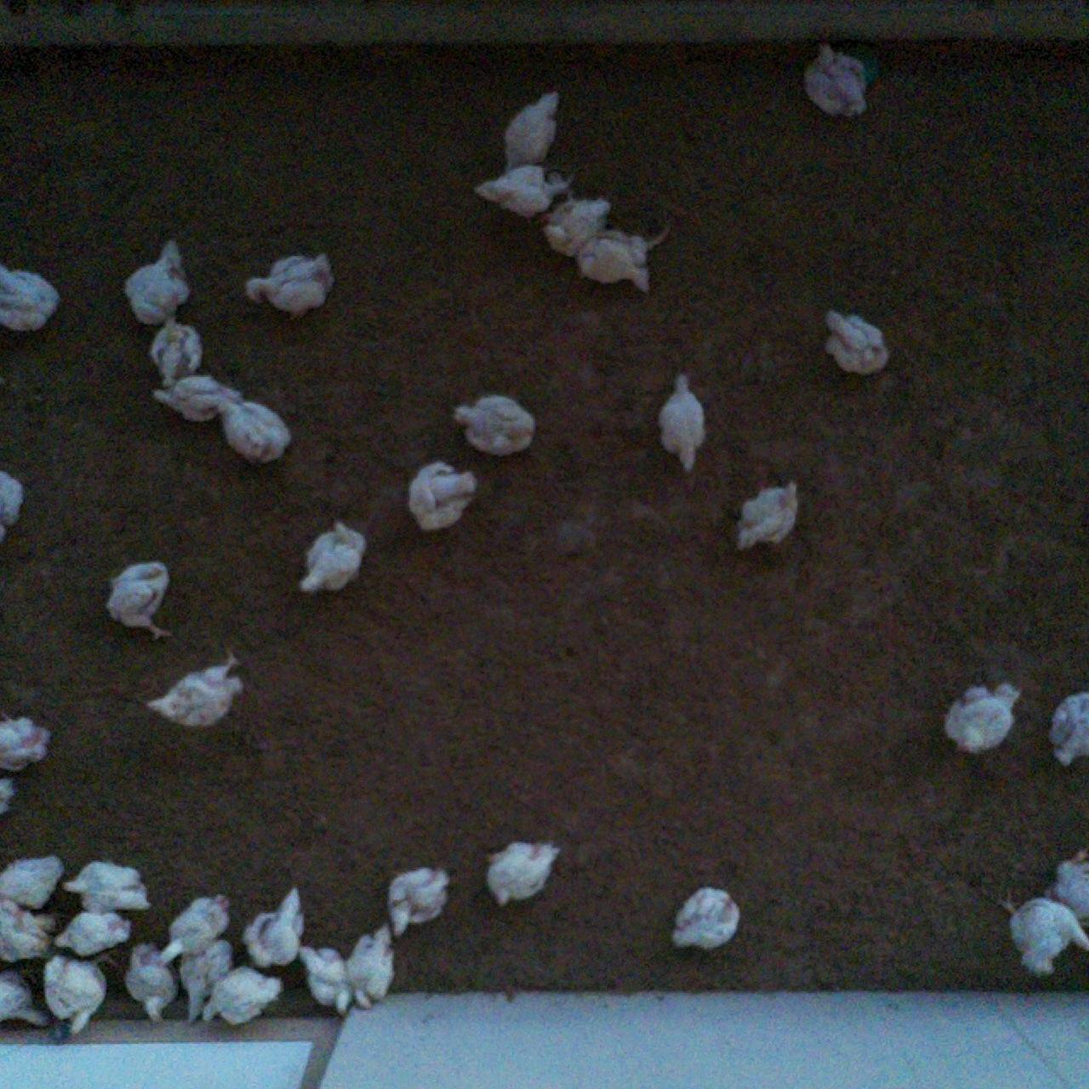chicken: (1014, 898, 1089, 973), (246, 254, 331, 316), (450, 396, 534, 455), (152, 663, 237, 721), (126, 241, 186, 322), (947, 686, 1017, 753), (158, 897, 229, 963), (801, 43, 866, 113), (180, 945, 237, 1024), (408, 462, 473, 531), (478, 166, 569, 215), (44, 963, 105, 1036), (503, 91, 559, 169), (111, 561, 168, 637), (244, 892, 300, 969), (486, 844, 556, 905), (672, 887, 738, 948), (660, 377, 703, 470), (68, 861, 151, 909), (300, 527, 362, 591), (579, 233, 651, 288), (825, 313, 887, 376), (125, 948, 177, 1022), (203, 972, 277, 1024), (220, 405, 287, 461), (299, 946, 351, 1016), (388, 874, 451, 931), (738, 487, 797, 546), (155, 379, 242, 419), (1, 270, 58, 331), (57, 913, 134, 956), (544, 206, 610, 254), (355, 931, 394, 1012), (147, 321, 200, 379), (2, 859, 63, 905), (1051, 693, 1089, 762), (1, 912, 54, 959), (1, 721, 49, 768), (2, 969, 43, 1023), (1054, 858, 1089, 917), (1, 467, 22, 533)
